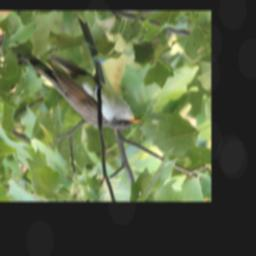Cuckoo: (11, 52, 141, 133)
